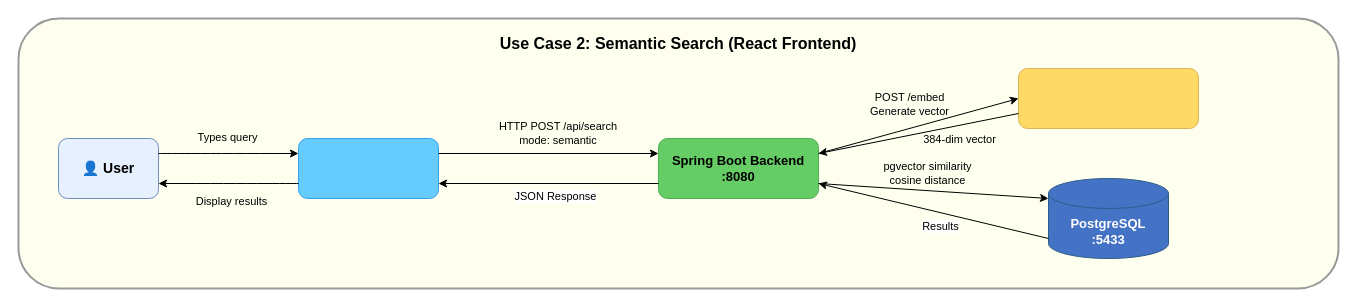
Image size: 1356x306. Some labels were removed from this diagram. Here are the shapes that lost their labels. From the top down, the box of each, then its label:
(1018, 68, 1198, 128): Embeddings Service Python/FastAPI :8090
(298, 138, 438, 198): React Frontend :3000
